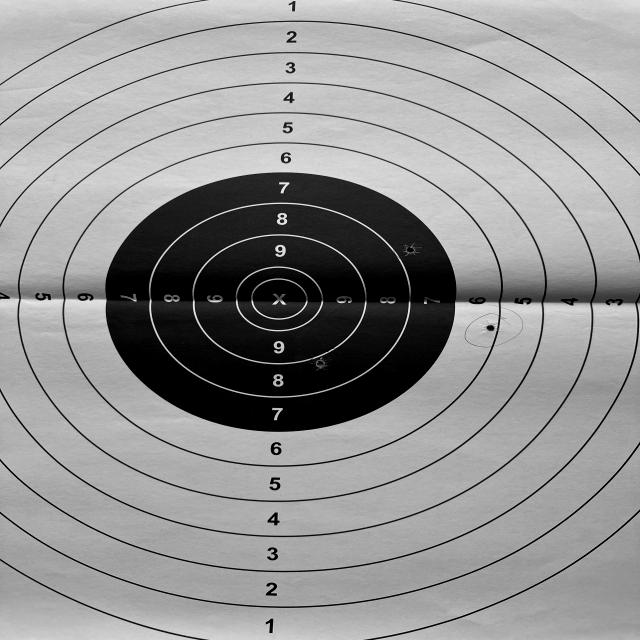bullet: (315, 360, 324, 369), (405, 245, 414, 253), (486, 324, 495, 331)
target: (0, 0, 640, 640)
